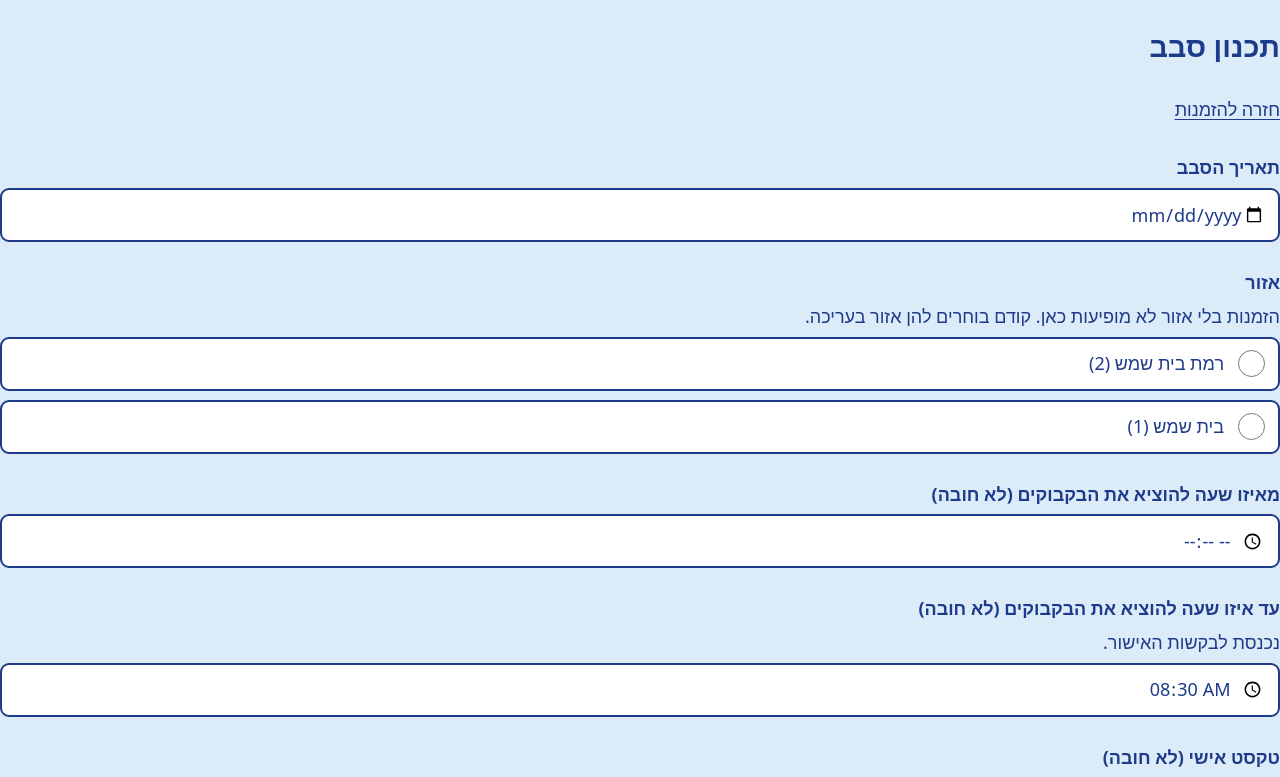
PlanRoundScreen › loaded › shows the region's waiting orders once it is chosen, all marked
The image size is (1280, 777).
What coordinates should you click on to do the following:
click the radio button labelled "רמת בית שמש (2)"
I would click on:
 (1251, 364)
Its box is [1238, 350, 1264, 377].
(page scrolled)
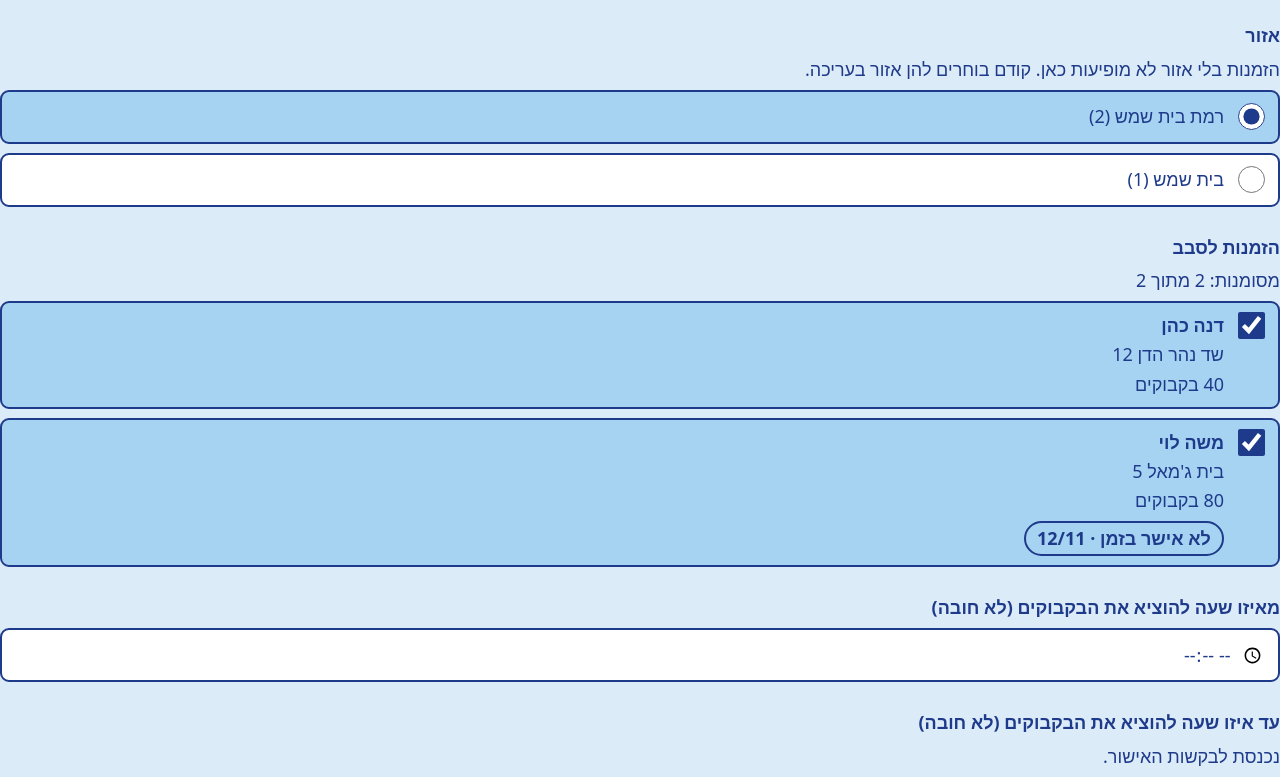
Now the text "מסומנות: 2 מתוך 2" is shown, box [1136, 268, 1279, 292]
Now the element "הזמנות לסבב" is shown, box [0, 234, 1279, 568]
